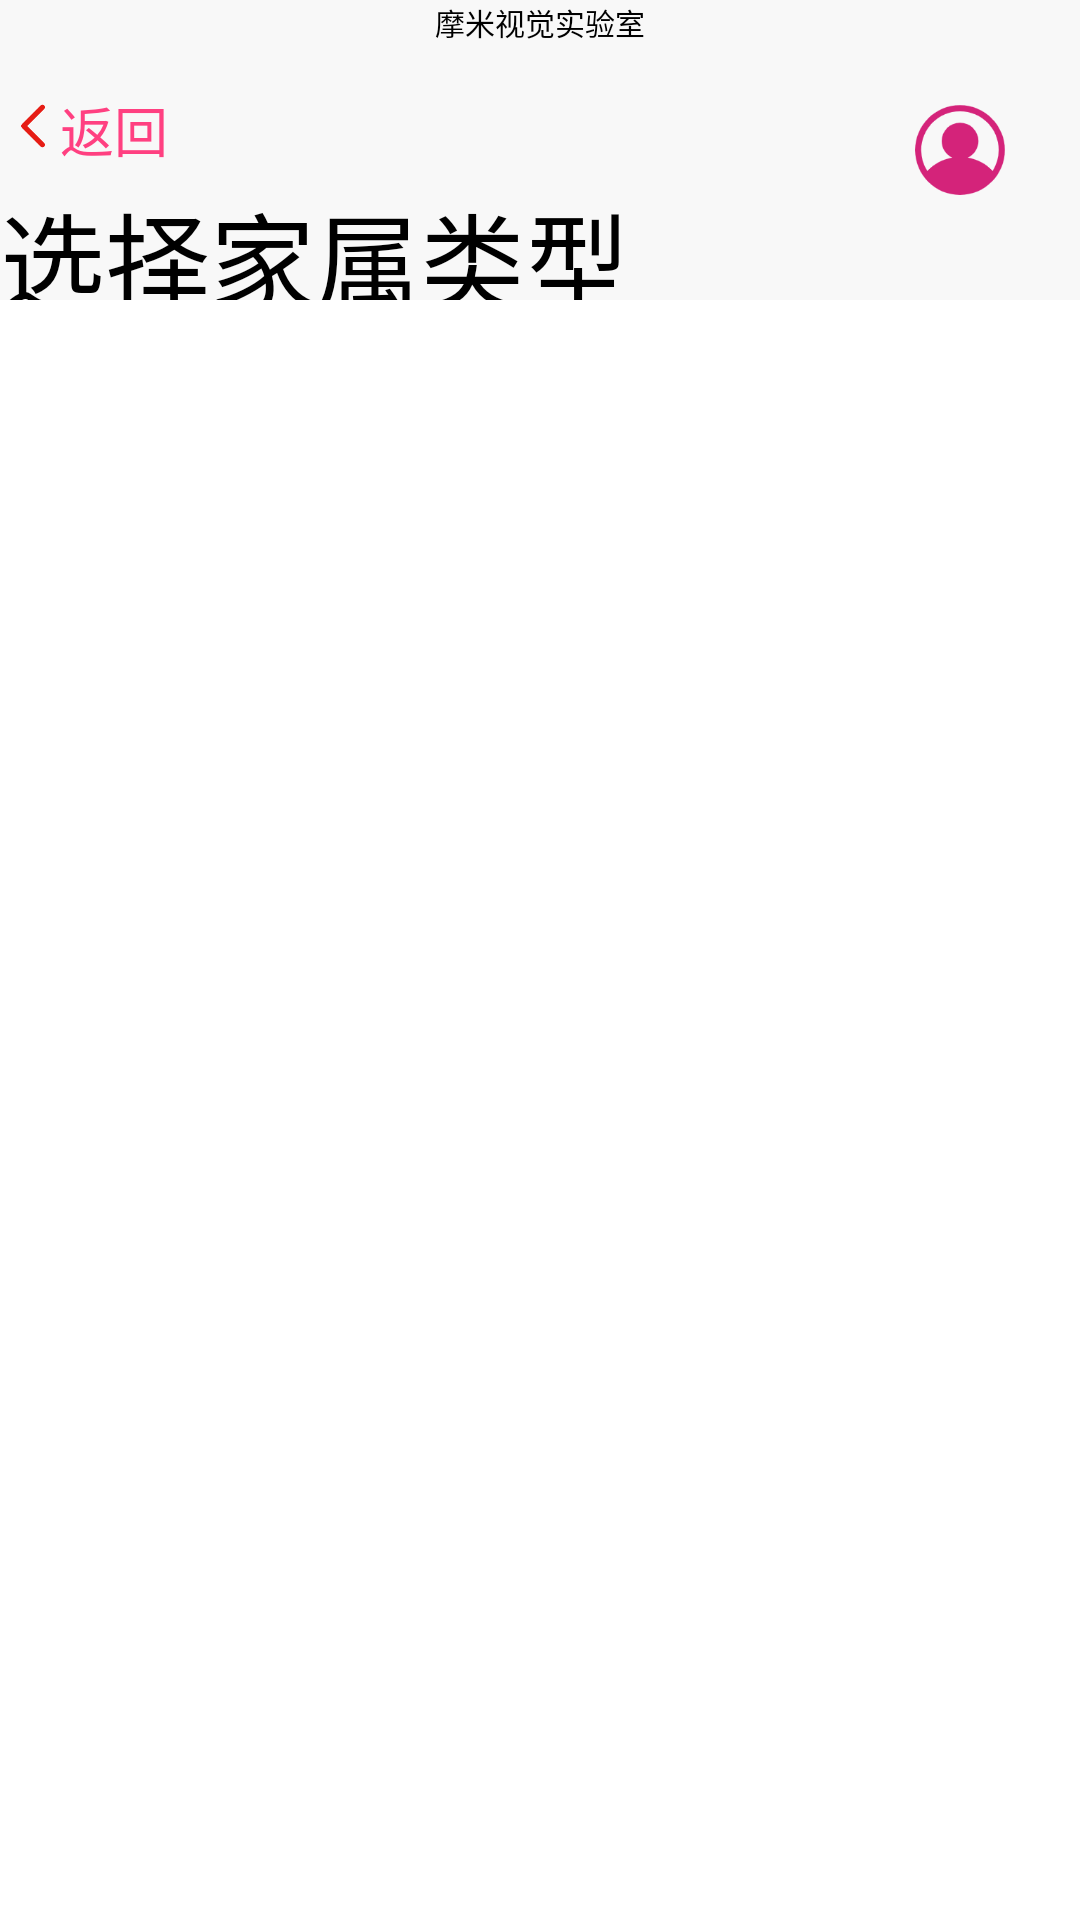

Icon click points for this 1080x1920 phone screenshot, format (x=x, y=y):
head: (x=960, y=150)
pointleft: (x=33, y=126)
